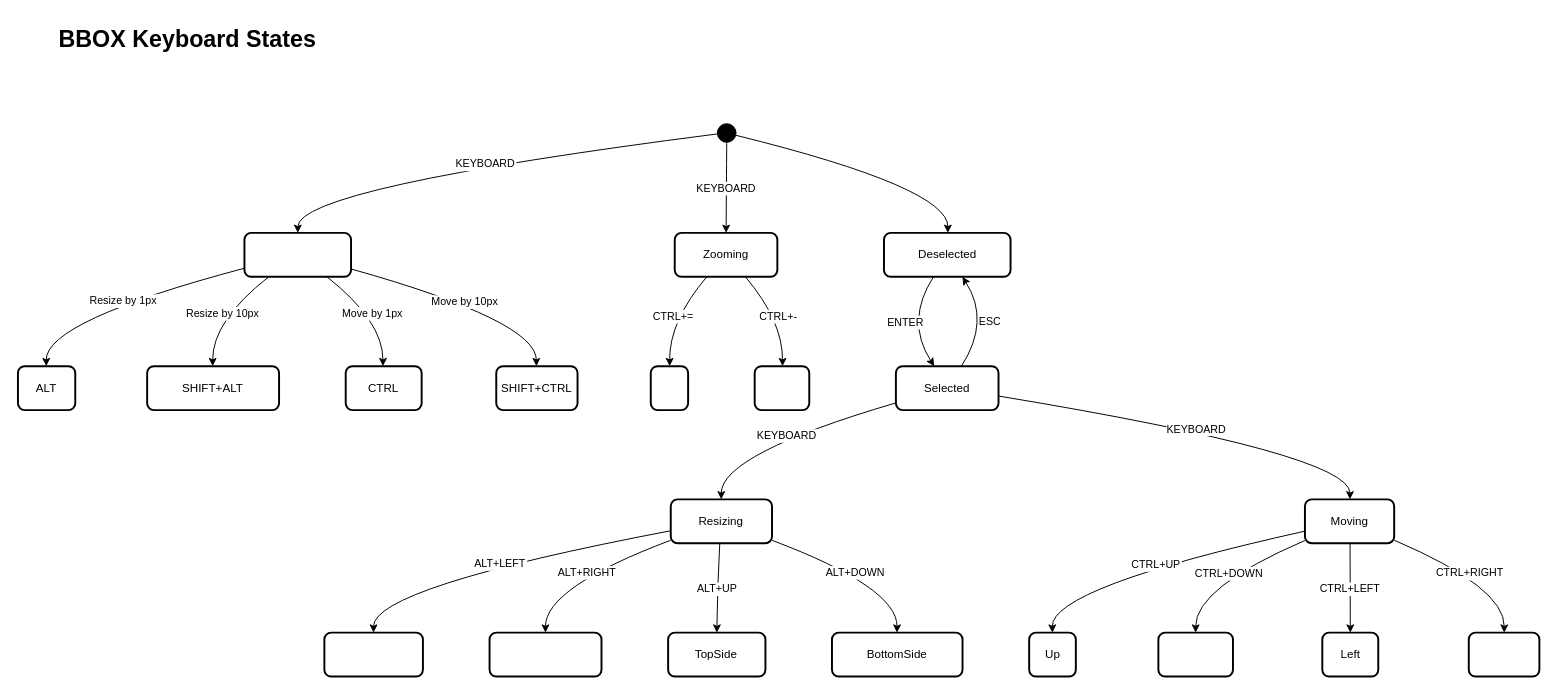
Image size: 1557x694. Some labels were removed from this diagram. Each missing label, with the box of its shape:
Down: (1157, 631, 1233, 677)
In: (649, 365, 689, 411)
LeftSide: (323, 631, 423, 677)
Modifiers: (243, 231, 352, 277)
Out: (753, 365, 810, 411)
Right: (1467, 631, 1540, 677)
RightSide: (488, 631, 602, 677)
